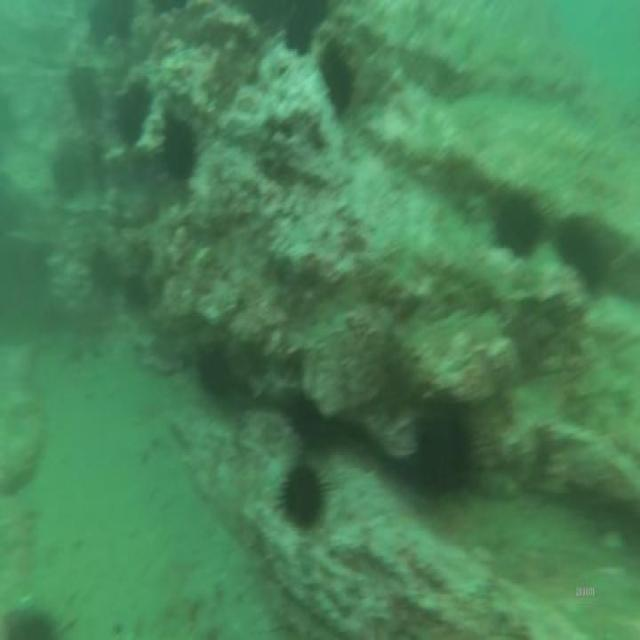echinus: (411, 387, 477, 504), (490, 179, 548, 259), (158, 101, 203, 190), (282, 453, 324, 538), (321, 35, 363, 120), (192, 340, 244, 406), (109, 82, 151, 155), (66, 63, 111, 123), (46, 136, 88, 197)
